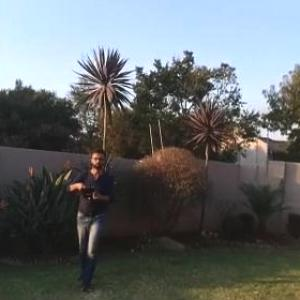follow: (54, 144, 112, 294)
